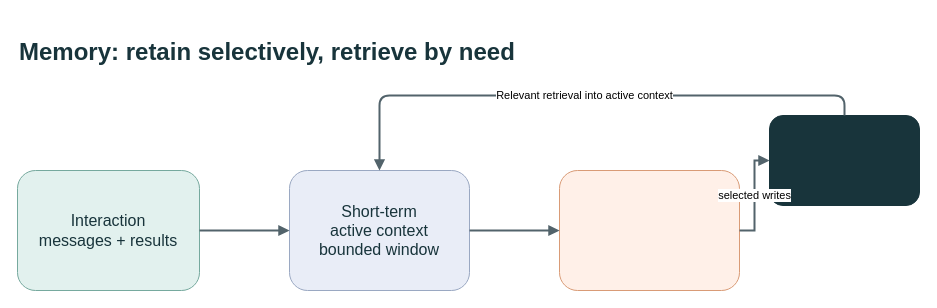
Image size: 937x308. Some labels were removed from this diagram. The centre of each missing label's shape, as x and y in pixels:
"Long-term external store" belongs at [844,160].
"Write policy consent + retention" belongs at [649,230].
